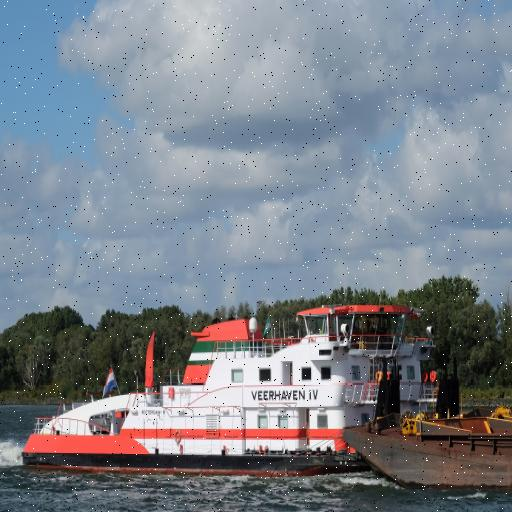tugboat: (17, 301, 467, 482)
